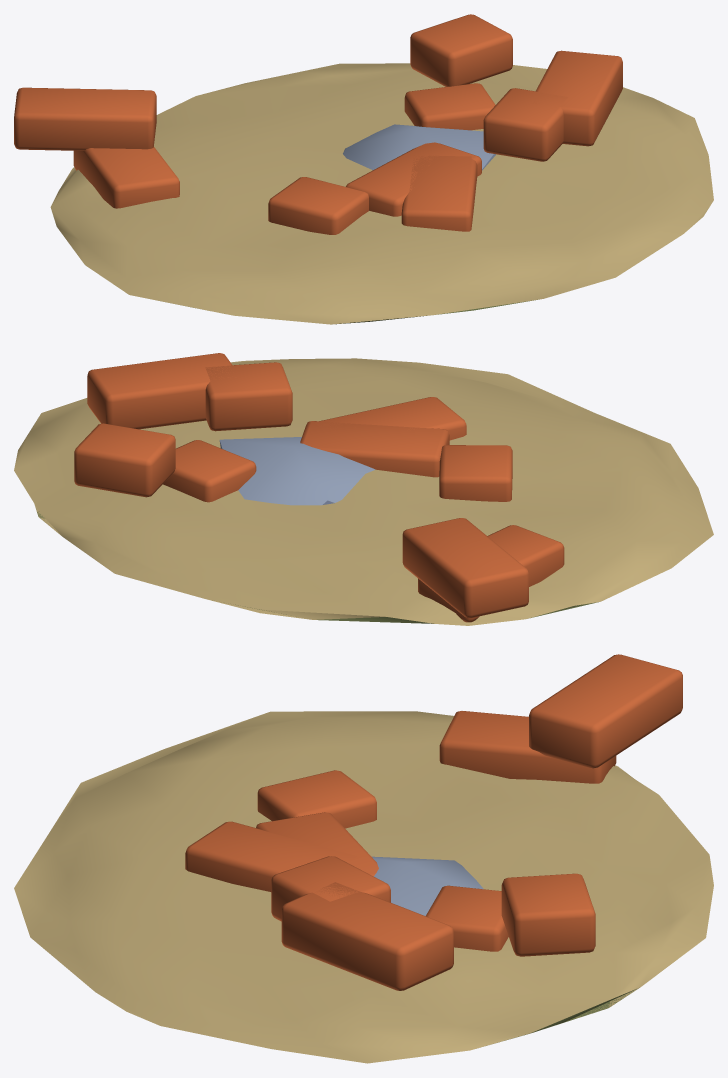
The model's file is BrickRubble.fbx.
The picture shows the model from 3 angles, top to bottom: view 1: azimuth 30°, elevation 25°; view 2: azimuth 150°, elevation 25°; view 3: azimuth 270°, elevation 25°; orthographic projection. The views are drawn at different scales.
Parts seen in each view (by area): view 1: BrickRubble; view 2: BrickRubble; view 3: BrickRubble.
Part boxes in pixels (x1=…): BrickRubble: x1=14, y1=14, x2=713, y2=324; BrickRubble: x1=14, y1=353, x2=713, y2=625; BrickRubble: x1=14, y1=654, x2=713, y2=1063.
Bounding box in the file's own units: 1.2 × 0.13 × 1.01.
1 material, 1 textured.
